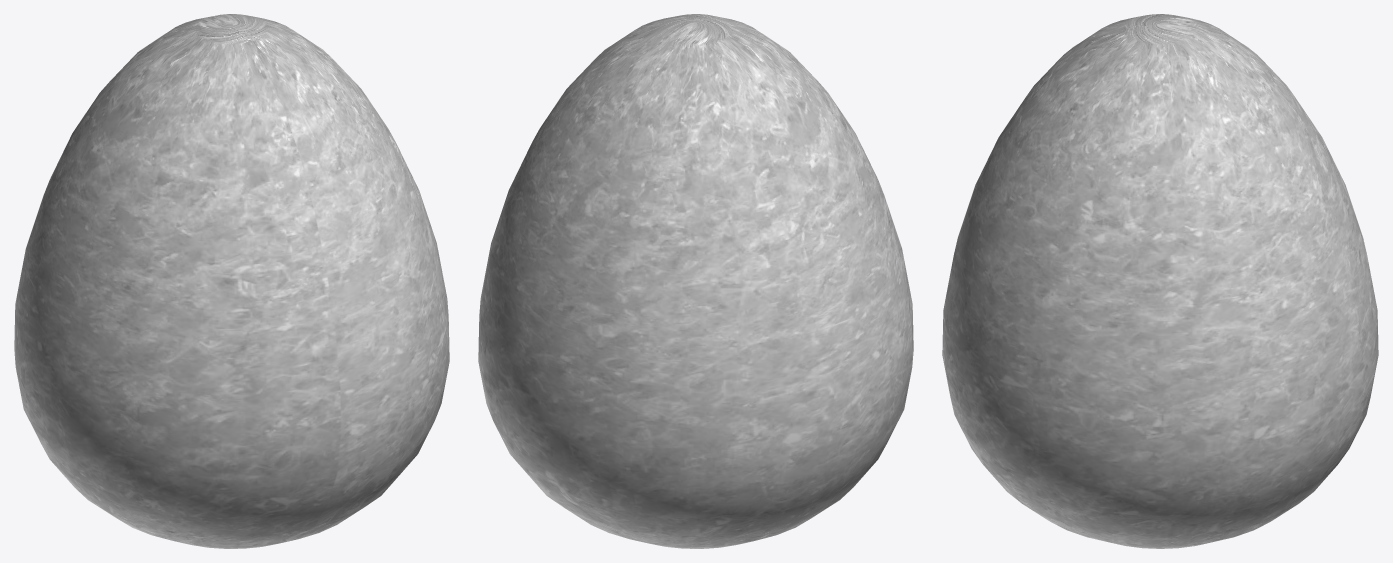
Rendered from Egg1.fbx.
3 views of the same model, side by side, from view 1: azimuth 30°, elevation 25°; view 2: azimuth 150°, elevation 25°; view 3: azimuth 270°, elevation 25° (orthographic).
Visible parts, largest first — view 1: Sphere001; view 2: Sphere001; view 3: Sphere001.
Part boxes in pixels (x1=…): Sphere001: x1=14, y1=14, x2=449, y2=548; Sphere001: x1=478, y1=14, x2=913, y2=548; Sphere001: x1=942, y1=14, x2=1378, y2=548.
Bounding box in the file's own units: 195 × 247 × 195.
